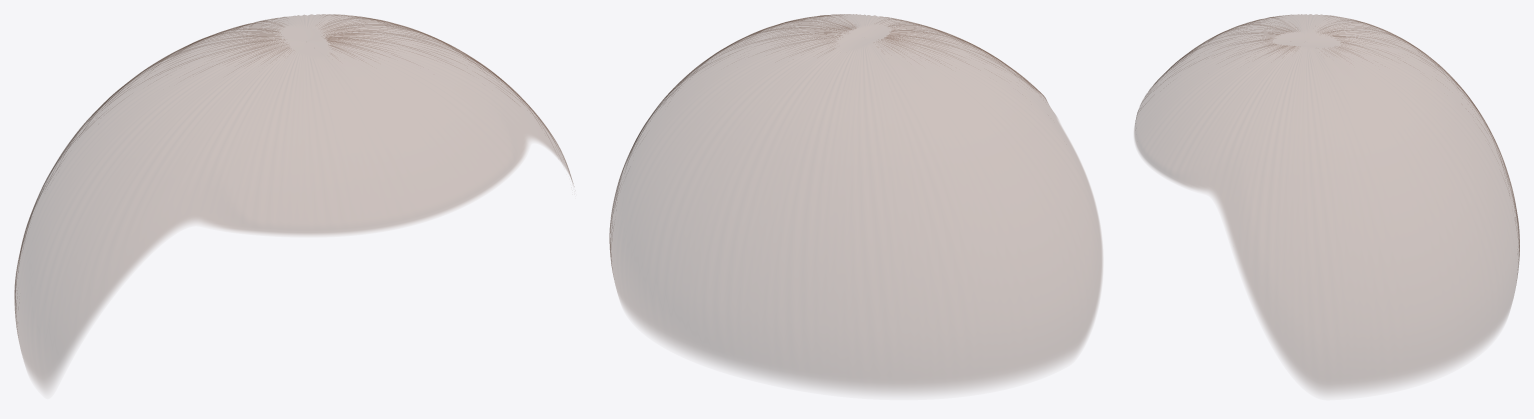
The model's file is Ombre-13c2635cf274253-hair.glb.
3 views of the same model, side by side, from view 1: azimuth 30°, elevation 25°; view 2: azimuth 150°, elevation 25°; view 3: azimuth 270°, elevation 25° (orthographic). The views are drawn at different scales.
Parts seen in each view (by area): view 1: 226 hair / Hair252 / buzz edge.001; view 2: 226 hair / Hair252 / buzz edge.001; view 3: 226 hair / Hair252 / buzz edge.001.
Part boxes in pixels (<box>): 226 hair / Hair252 / buzz edge.001: <box>14,14,573,389</box>; 226 hair / Hair252 / buzz edge.001: <box>609,14,1102,392</box>; 226 hair / Hair252 / buzz edge.001: <box>1134,14,1519,392</box>.
Bounding box in the file's own units: 0.9886 × 0.574 × 0.761.
1 material, 1 textured.
